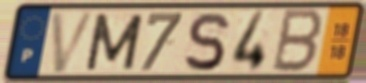4: (229, 8, 269, 75)
7: (137, 11, 185, 73)
B: (268, 7, 327, 76)
M: (82, 11, 146, 72)
S: (182, 10, 231, 74)
V: (49, 8, 100, 76)
